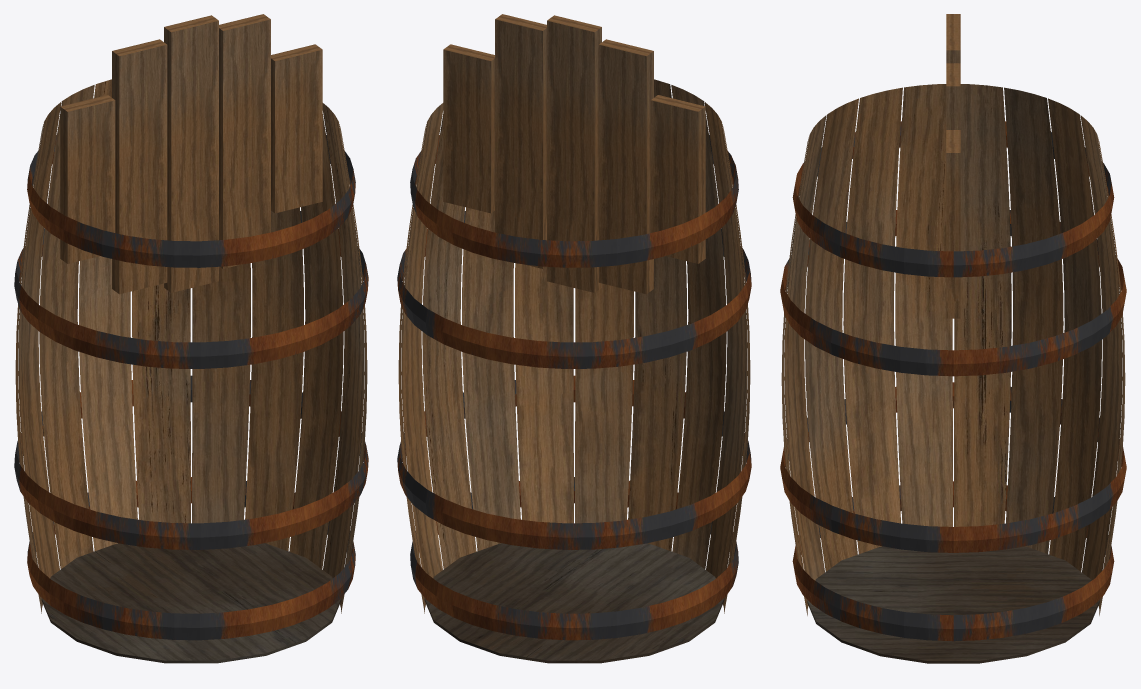
The model's file is barrel.glb.
The picture shows the model from 3 angles, left to right: view 1: azimuth 30°, elevation 25°; view 2: azimuth 150°, elevation 25°; view 3: azimuth 270°, elevation 25°; orthographic projection. The views are drawn at different scales.
Parts seen in each view (by area): view 1: barrel; view 2: barrel; view 3: barrel.
Part boxes in pixels (x1,y1,x2,y2): barrel: (14, 14, 368, 663); barrel: (397, 14, 751, 663); barrel: (780, 14, 1126, 663).
Size of the model in its own units: 0.6047 by 1.11 by 0.6047.
3 materials, 3 textured.
